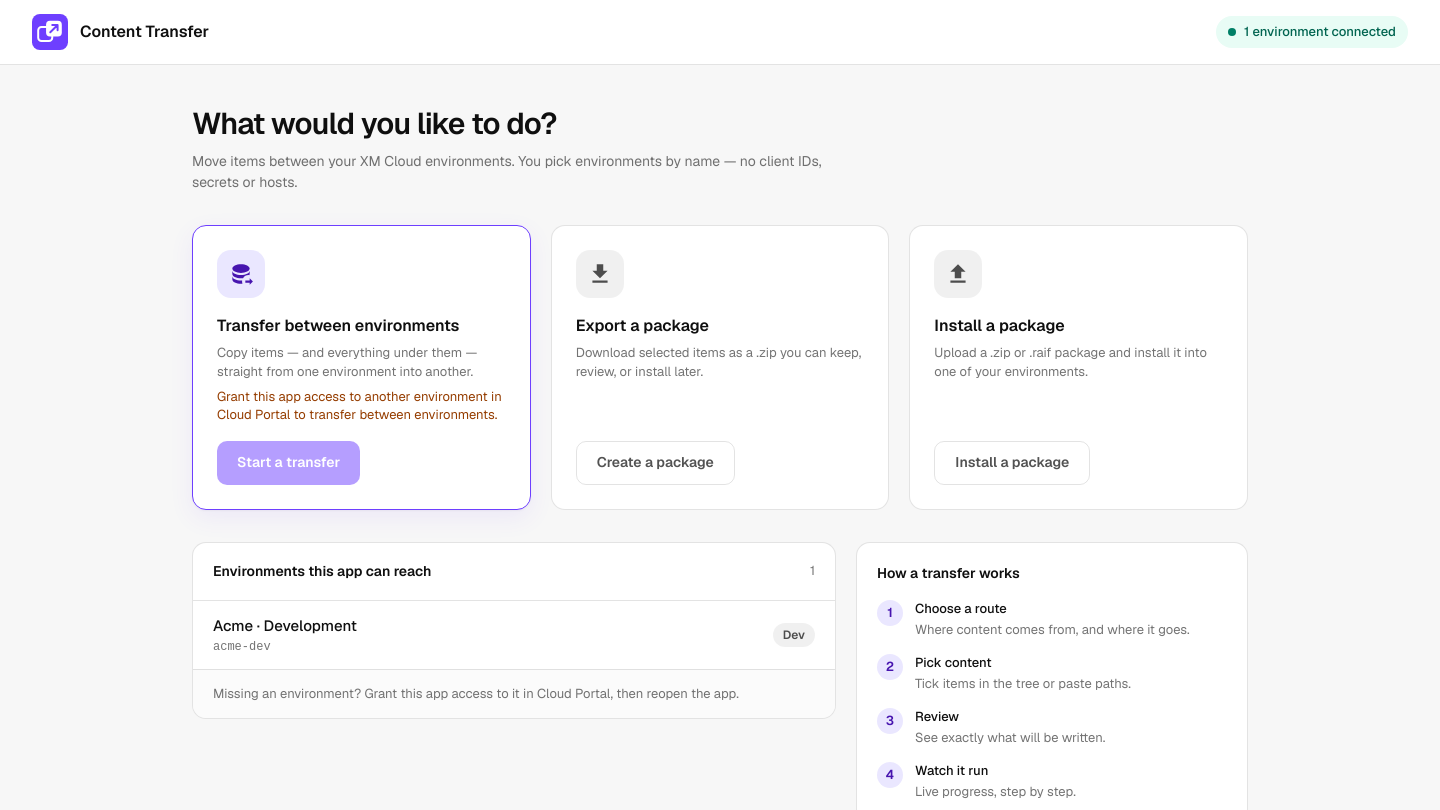
Test: App › blocks the transfer with one environment but still offers export and install
Check: the text "Grant this app access to another environment in Cloud Portal to transfer between environments." is shown, box [217, 388, 502, 423]
Check: the button "Start a transfer" is disabled, box [217, 441, 360, 485]
Click the button "Create a package" at (655, 463), box [576, 441, 735, 485]
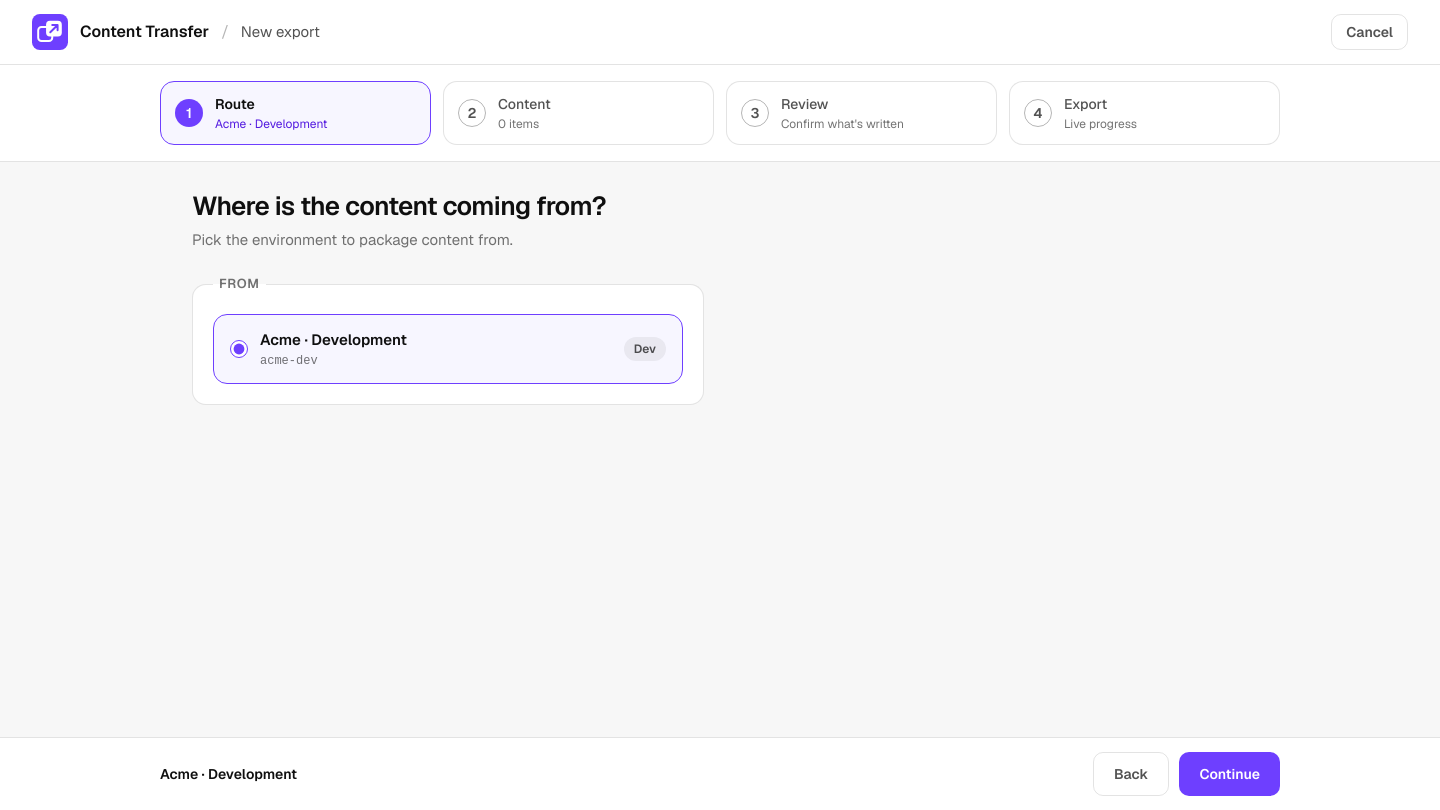
Check: the element "From" is shown, box [192, 275, 704, 405]
